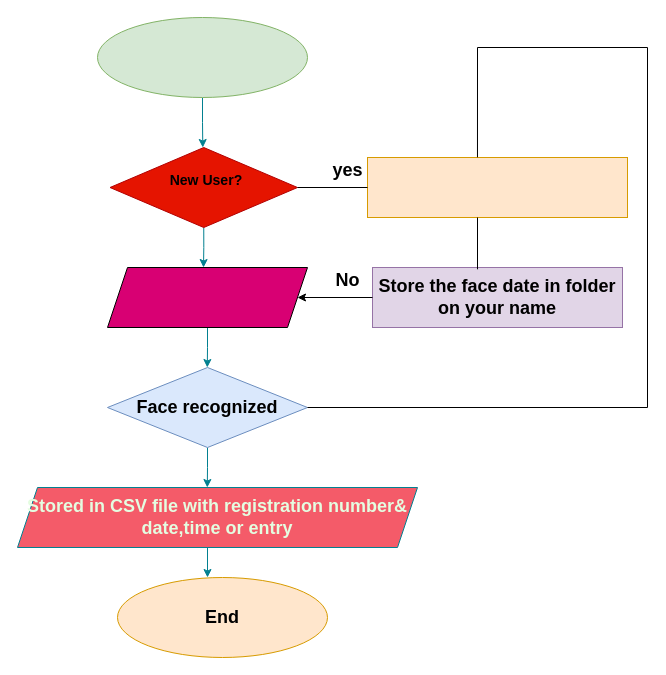
This 666x675 diagram has some shape labels left out. The centre of each missing label's shape, as x and y in pixels:
Give your photograph: (x=497, y=187)
Recognice the face: (x=207, y=297)
Start: (x=202, y=57)
